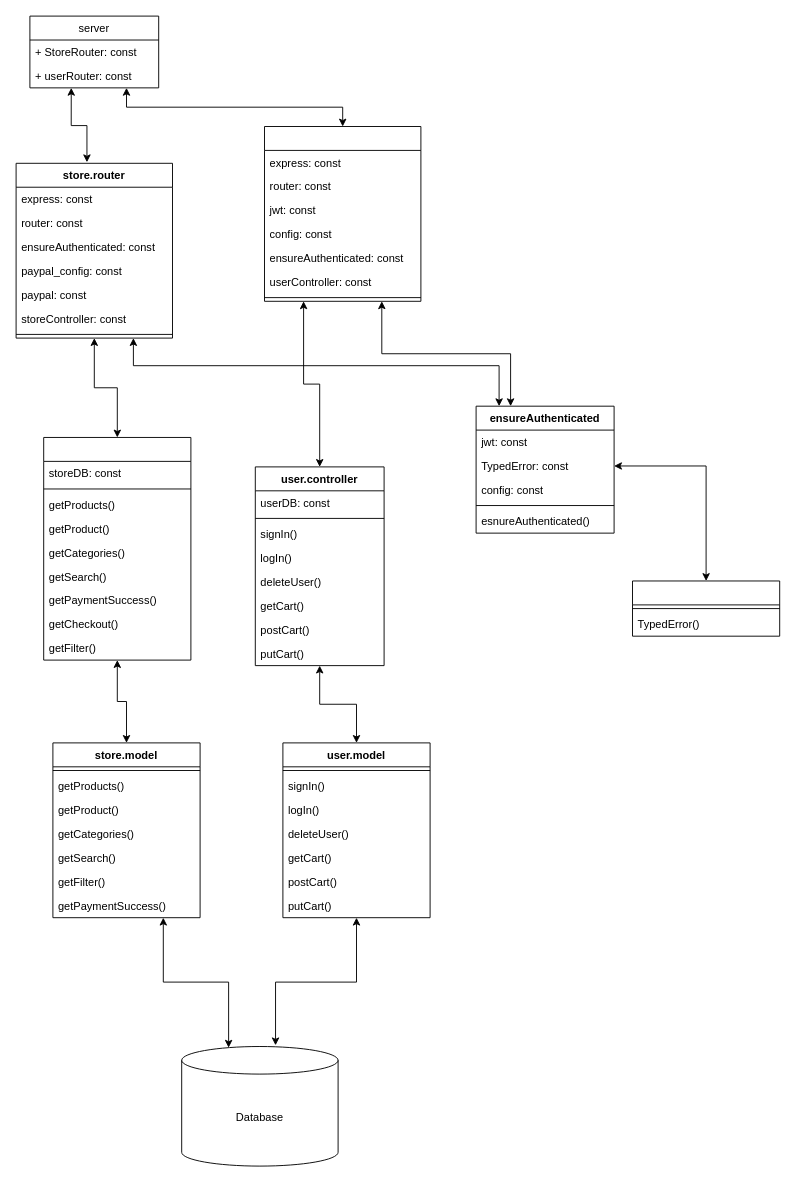
This 796x1182 diagram has some shape labels left out. Here are the shapes that lost their labels. From the top down, the box of each, then its label:
(264, 126, 421, 301): user.router
(43, 437, 191, 660): store.controller
(632, 580, 780, 636): errorHandler
